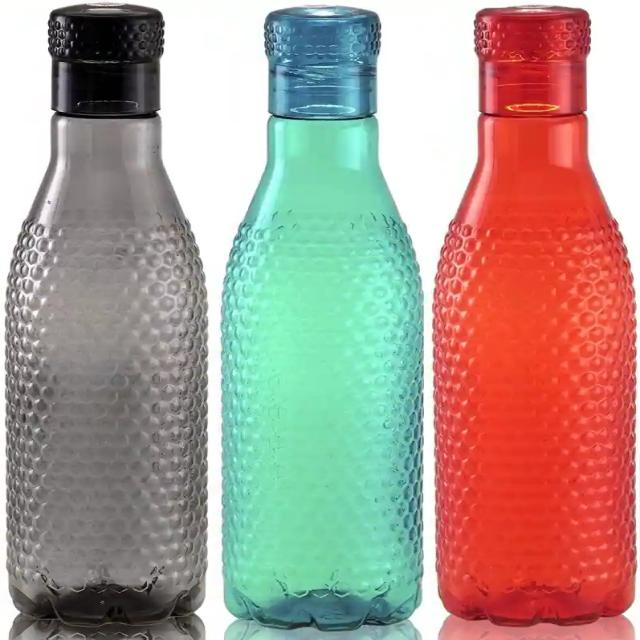Bottle: (431, 4, 639, 619), (3, 6, 209, 624), (222, 4, 422, 626)
